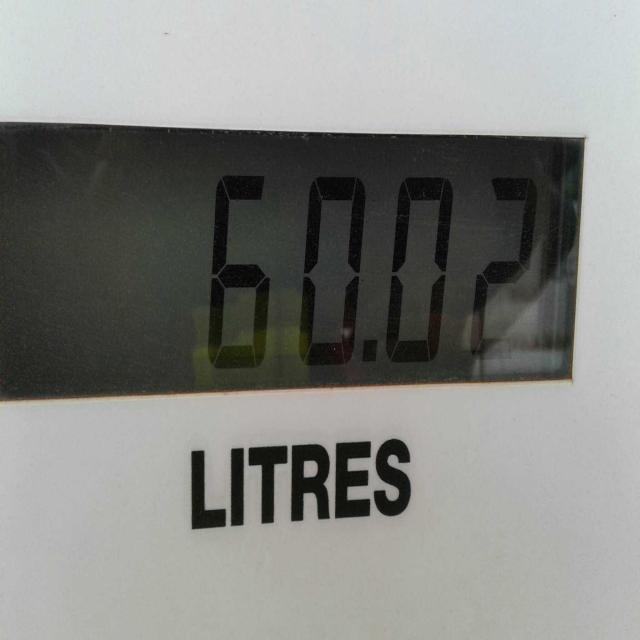.: (360, 331, 380, 366)
0: (382, 175, 462, 371), (292, 170, 366, 378)
2: (473, 174, 542, 366)
6: (212, 168, 276, 370)
